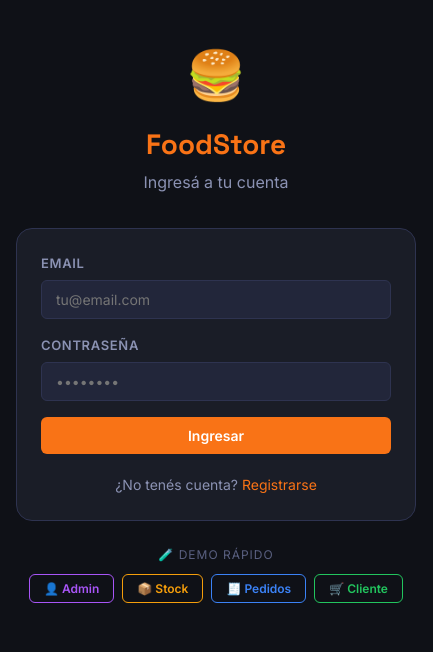
it: LoginPage › shows too many attempts for 429
This screenshot has width=433, height=652.
Type "a@b.com" into the field with placeholder "tu@email.com" at (216, 299), box [41,280,391,319]
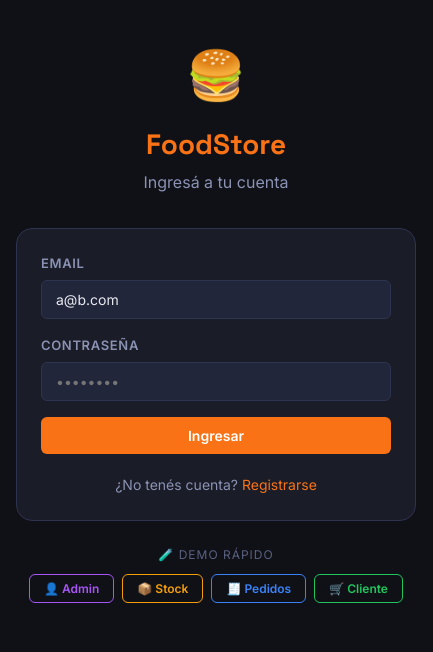
Type "12345678" into the password field with placeholder "••••••••" at (216, 381), box [41,362,391,401]
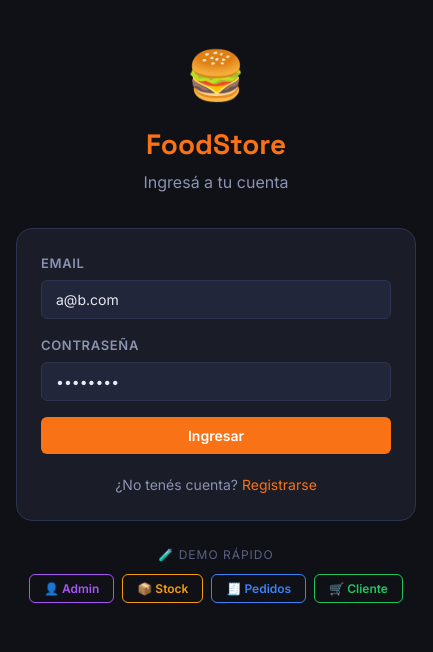
Click the button "Ingresar" at (216, 435), box [41,417,391,454]
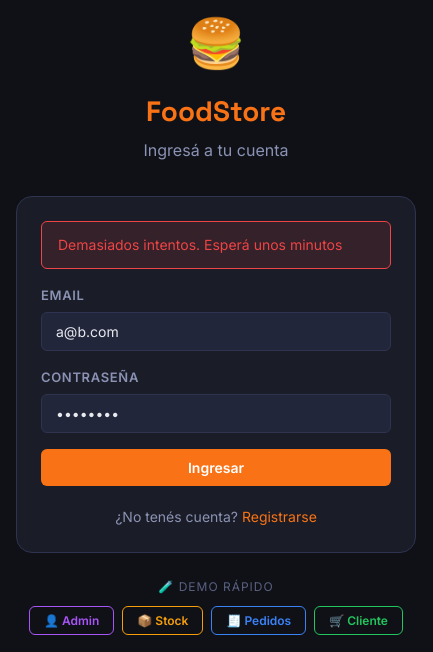
Result: the text "Demasiados intentos. Esperá unos minutos" is shown at [41,221,391,269]
